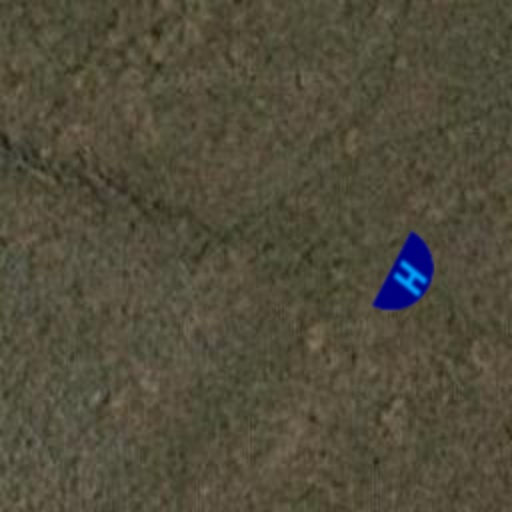semicircle: (352, 220, 468, 336)
